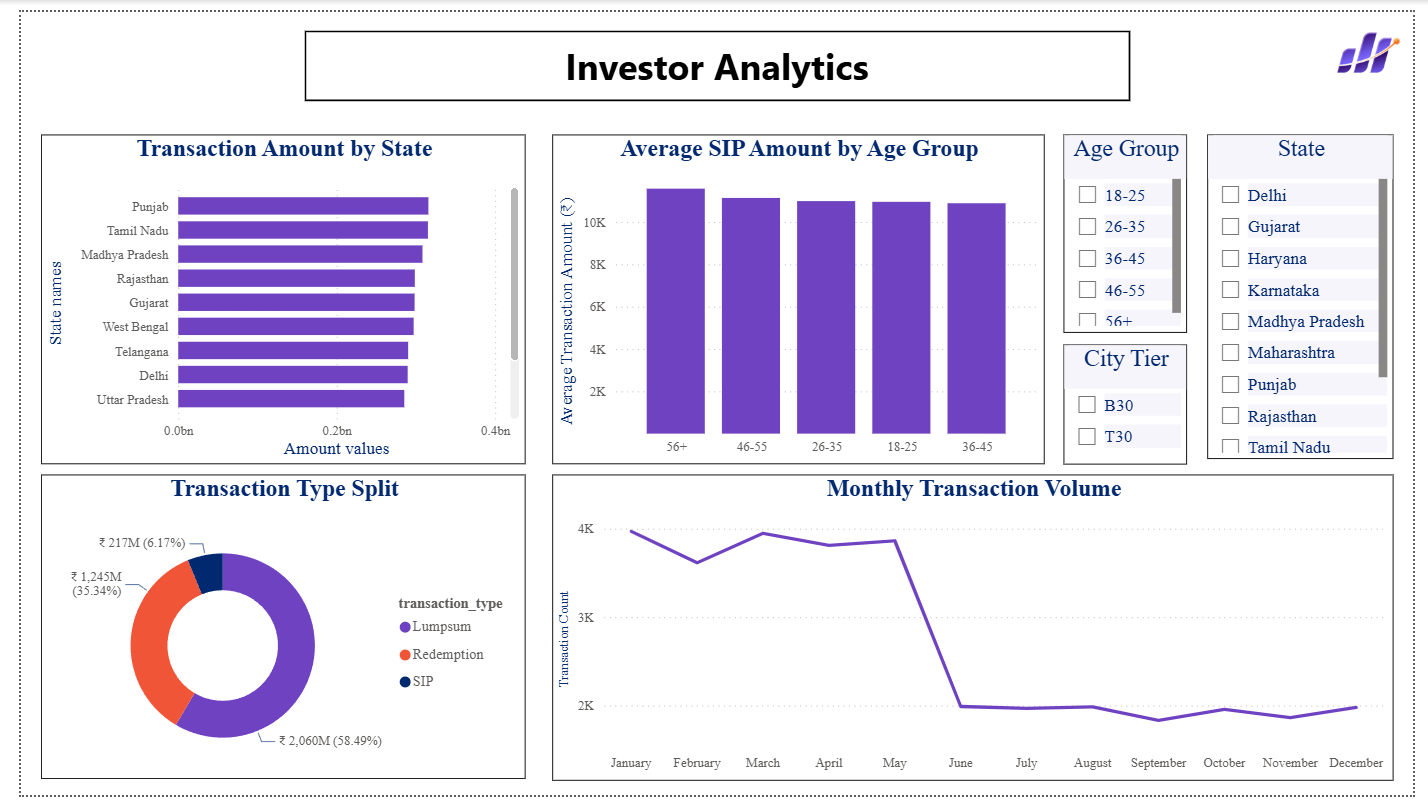

This screenshot's page, from the dashboard's own definition file:
{"tool":"powerbi","page":{"name":" Investor Analytics","canvas":[1280,720],"ordinal":2},"visuals":[{"type":"clusteredBarChart","title":"Transaction Amount by State","fields":{"Category":["08_investor_transactions_cleaned.state"],"Y":["Sum(08_investor_transactions_cleaned.amount_inr)"]},"box":[17.8,112.5,446,303.3],"z":0},{"type":"donutChart","title":"Transaction Type Split","fields":{"Category":["08_investor_transactions_cleaned.transaction_type"],"Y":["Sum(08_investor_transactions_cleaned.amount_inr)"]},"box":[17.8,425.4,446,279.9],"z":1000},{"type":"clusteredColumnChart","title":"Average SIP Amount by Age Group","fields":{"Category":["08_investor_transactions_cleaned.age_group"],"Y":["Avg(08_investor_transactions_cleaned.amount_inr)"]},"box":[488.5,112.5,452.8,303.3],"z":2000},{"type":"lineChart","title":"Monthly Transaction Volume","fields":{"Y":["CountNonNull(08_investor_transactions_cleaned.investor_id)"],"Category":["08_investor_transactions_cleaned.transaction_date.Variation.Date Hierarchy.Month"]},"box":[488.5,425.4,773.9,281.3],"z":3000},{"type":"slicer","title":"State","fields":{"Values":["08_investor_transactions_cleaned.state"]},"box":[1091.1,112.7,171.3,298.7],"z":4000},{"type":"slicer","title":"Age Group","fields":{"Values":["08_investor_transactions_cleaned.age_group"]},"box":[959.2,112.7,113.8,182.6],"z":5000},{"type":"slicer","title":"City Tier","fields":{"Values":["08_investor_transactions_cleaned.city_tier"]},"box":[959.2,305.4,113.8,110.5],"z":6000},{"type":"shape","box":[260.4,16.9,758.8,64.5],"z":7000},{"type":"image","box":[1197.7,0,82.3,75.5],"z":8000}]}

Visuals, with their boxes in screenshot pixels (x1, y1, x2, y2), scaled from the page's 1280x720 canvas onto the 1428x807 screenshot:
"Transaction Amount by State" clusteredBarChart: [left=20, top=126, right=517, bottom=466]
"Transaction Type Split" donutChart: [left=20, top=477, right=517, bottom=791]
"Average SIP Amount by Age Group" clusteredColumnChart: [left=545, top=126, right=1050, bottom=466]
"Monthly Transaction Volume" lineChart: [left=545, top=477, right=1408, bottom=792]
"State" slicer: [left=1217, top=126, right=1408, bottom=461]
"Age Group" slicer: [left=1070, top=126, right=1197, bottom=331]
"City Tier" slicer: [left=1070, top=342, right=1197, bottom=466]
shape: [left=291, top=19, right=1137, bottom=91]
image: [left=1336, top=0, right=1427, bottom=85]
